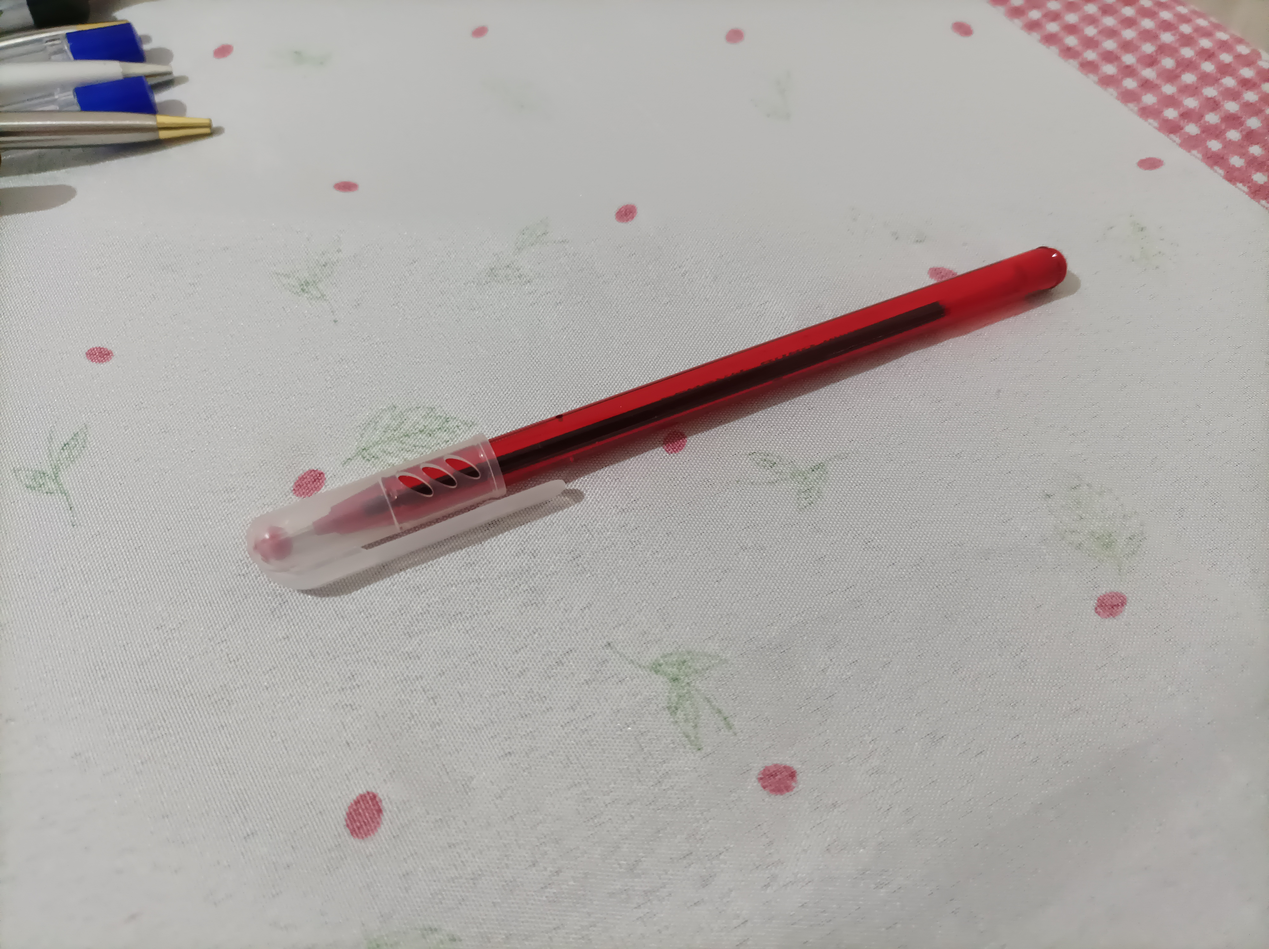plastic: (242, 251, 1076, 622)
